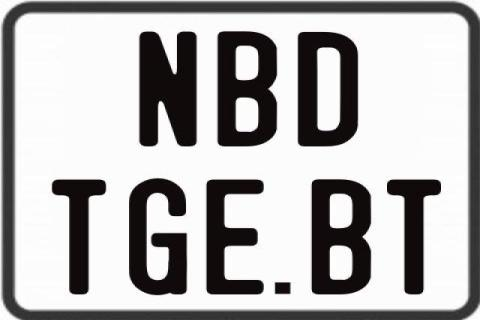B: (215, 30, 280, 148), (309, 179, 371, 299)
D: (297, 31, 362, 148)
E: (205, 177, 264, 293)
G: (129, 178, 192, 298)
N: (136, 29, 196, 149)
T: (385, 179, 443, 297), (51, 177, 106, 295)
